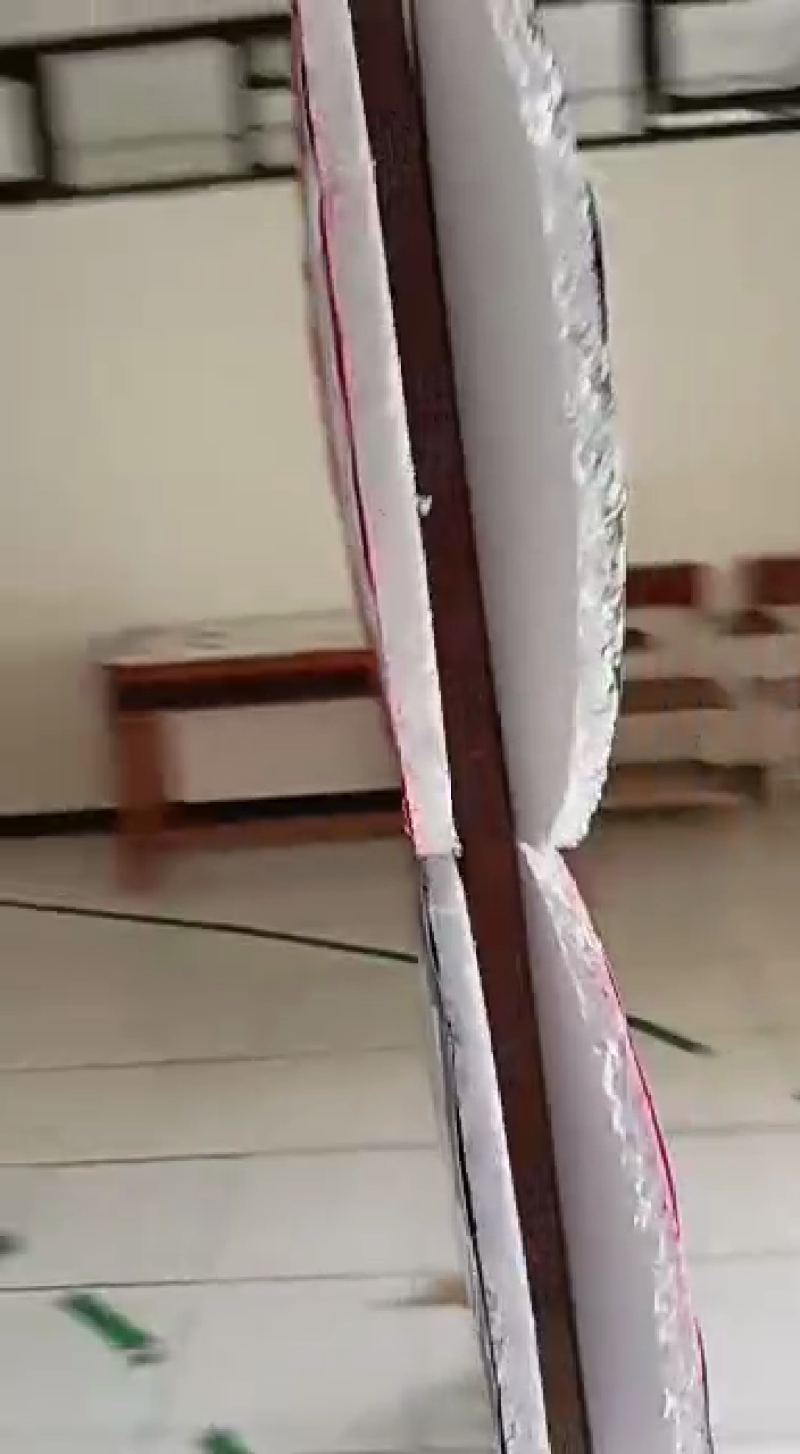batas maksimal 80kmperjam minimal 60kmperjam: (274, 1, 585, 1454)
